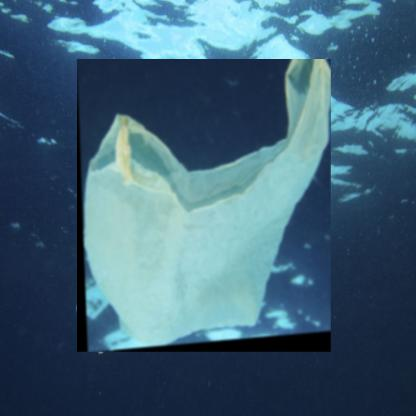plastic-bag: (77, 59, 332, 353)
